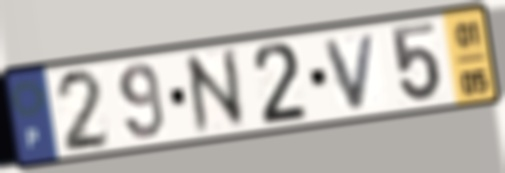2: (252, 40, 312, 128), (55, 67, 112, 153)
5: (386, 21, 445, 105)
9: (115, 61, 167, 144)
N: (180, 44, 252, 139)
V: (321, 29, 380, 113)
